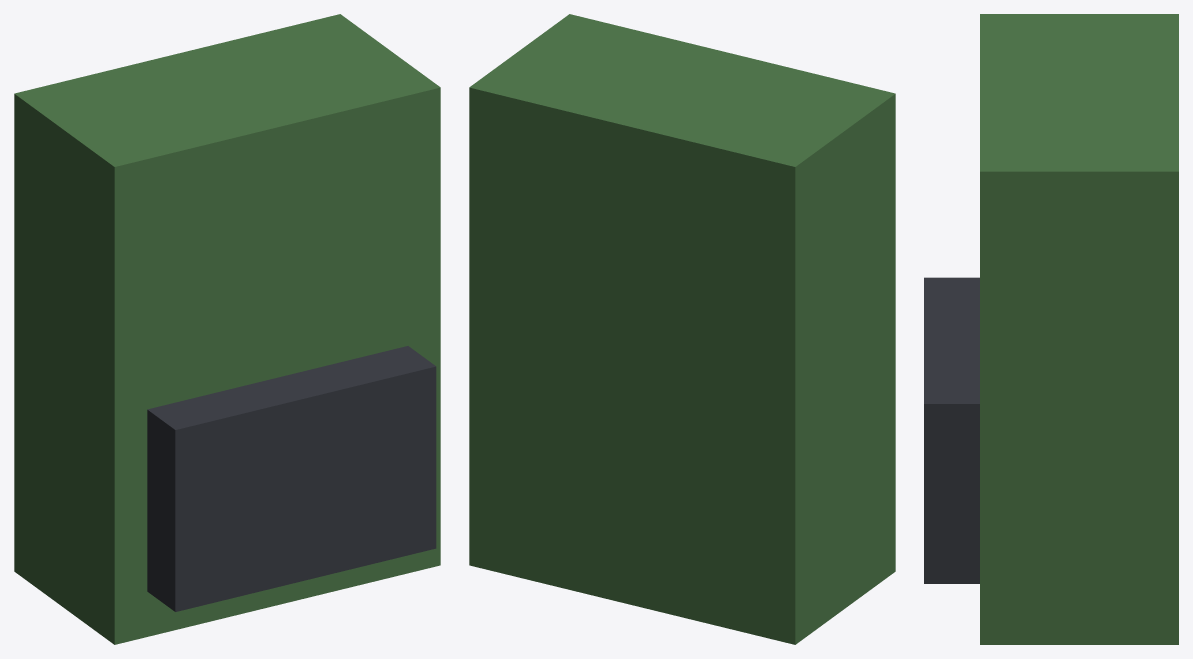
File: backpack.glb
3 views of the same model, side by side, from view 1: azimuth 30°, elevation 25°; view 2: azimuth 150°, elevation 25°; view 3: azimuth 270°, elevation 25° (orthographic).
Visible parts, largest first — view 1: box (×2); view 2: box; view 3: box (×2).
Part boxes in pixels (bbox=[...]): box (×2): bbox=[14, 14, 440, 644]; box: bbox=[469, 14, 895, 644]; box (×2): bbox=[924, 14, 1178, 644].
Bounding box in the file's own units: 0.3 × 0.42 × 0.205.
